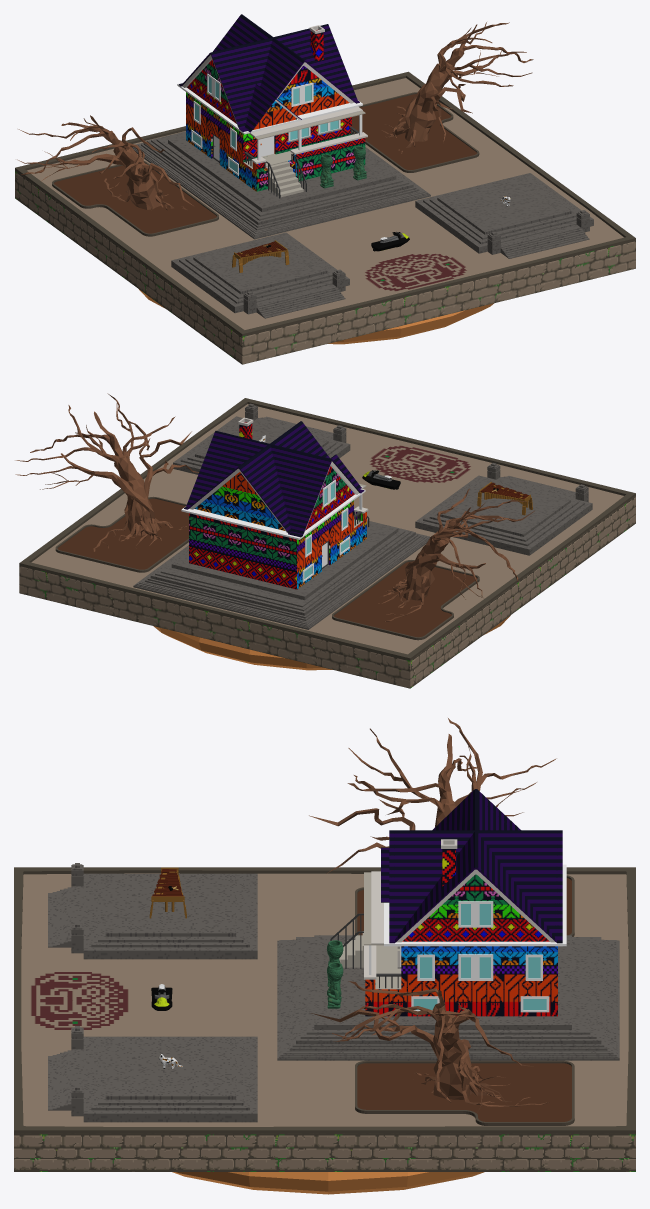
3 renders of one model, top to bottom at view 1: azimuth 30°, elevation 25°; view 2: azimuth 150°, elevation 25°; view 3: azimuth 270°, elevation 25°, orthographic. The views are drawn at different scales.
Visible parts, largest first — view 1: Cube.011, Cube.966, UNDERGROUND_PIZZA, OBJRANDOM_MARIMBA; view 2: Cube.011, Cube.966, UNDERGROUND_PIZZA, OBJRANDOM_MARIMBA, VEHICLES_WATERBIKE; view 3: Cube.011, Cube.966, UNDERGROUND_PIZZA, OBJRANDOM_MARIMBA.
Part boxes in pixels (x1,y1,x2,y2): Cube.011: (15,22,635,364); Cube.966: (177,14,367,198); UNDERGROUND_PIZZA: (139,289,493,344); OBJRANDOM_MARIMBA: (232,240,289,272); Cube.011: (15,393,635,688); Cube.966: (181,417,369,589); UNDERGROUND_PIZZA: (153,615,510,670); OBJRANDOM_MARIMBA: (477,482,532,515); VEHICLES_WATERBIKE: (362,470,400,489); Cube.011: (14,718,635,1171); Cube.966: (330,789,566,1016); UNDERGROUND_PIZZA: (172,1172,484,1194); OBJRANDOM_MARIMBA: (149,867,186,918).
Bounding box in the file's own units: 5099 × 1872 × 4000.
Materials: 40 (9 with a texture image).
